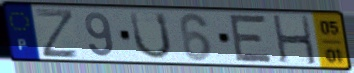6: (177, 11, 217, 63)
9: (83, 10, 115, 58)
E: (229, 13, 275, 65)
H: (270, 14, 319, 67)
U: (128, 10, 174, 61)
Z: (33, 7, 81, 60)
